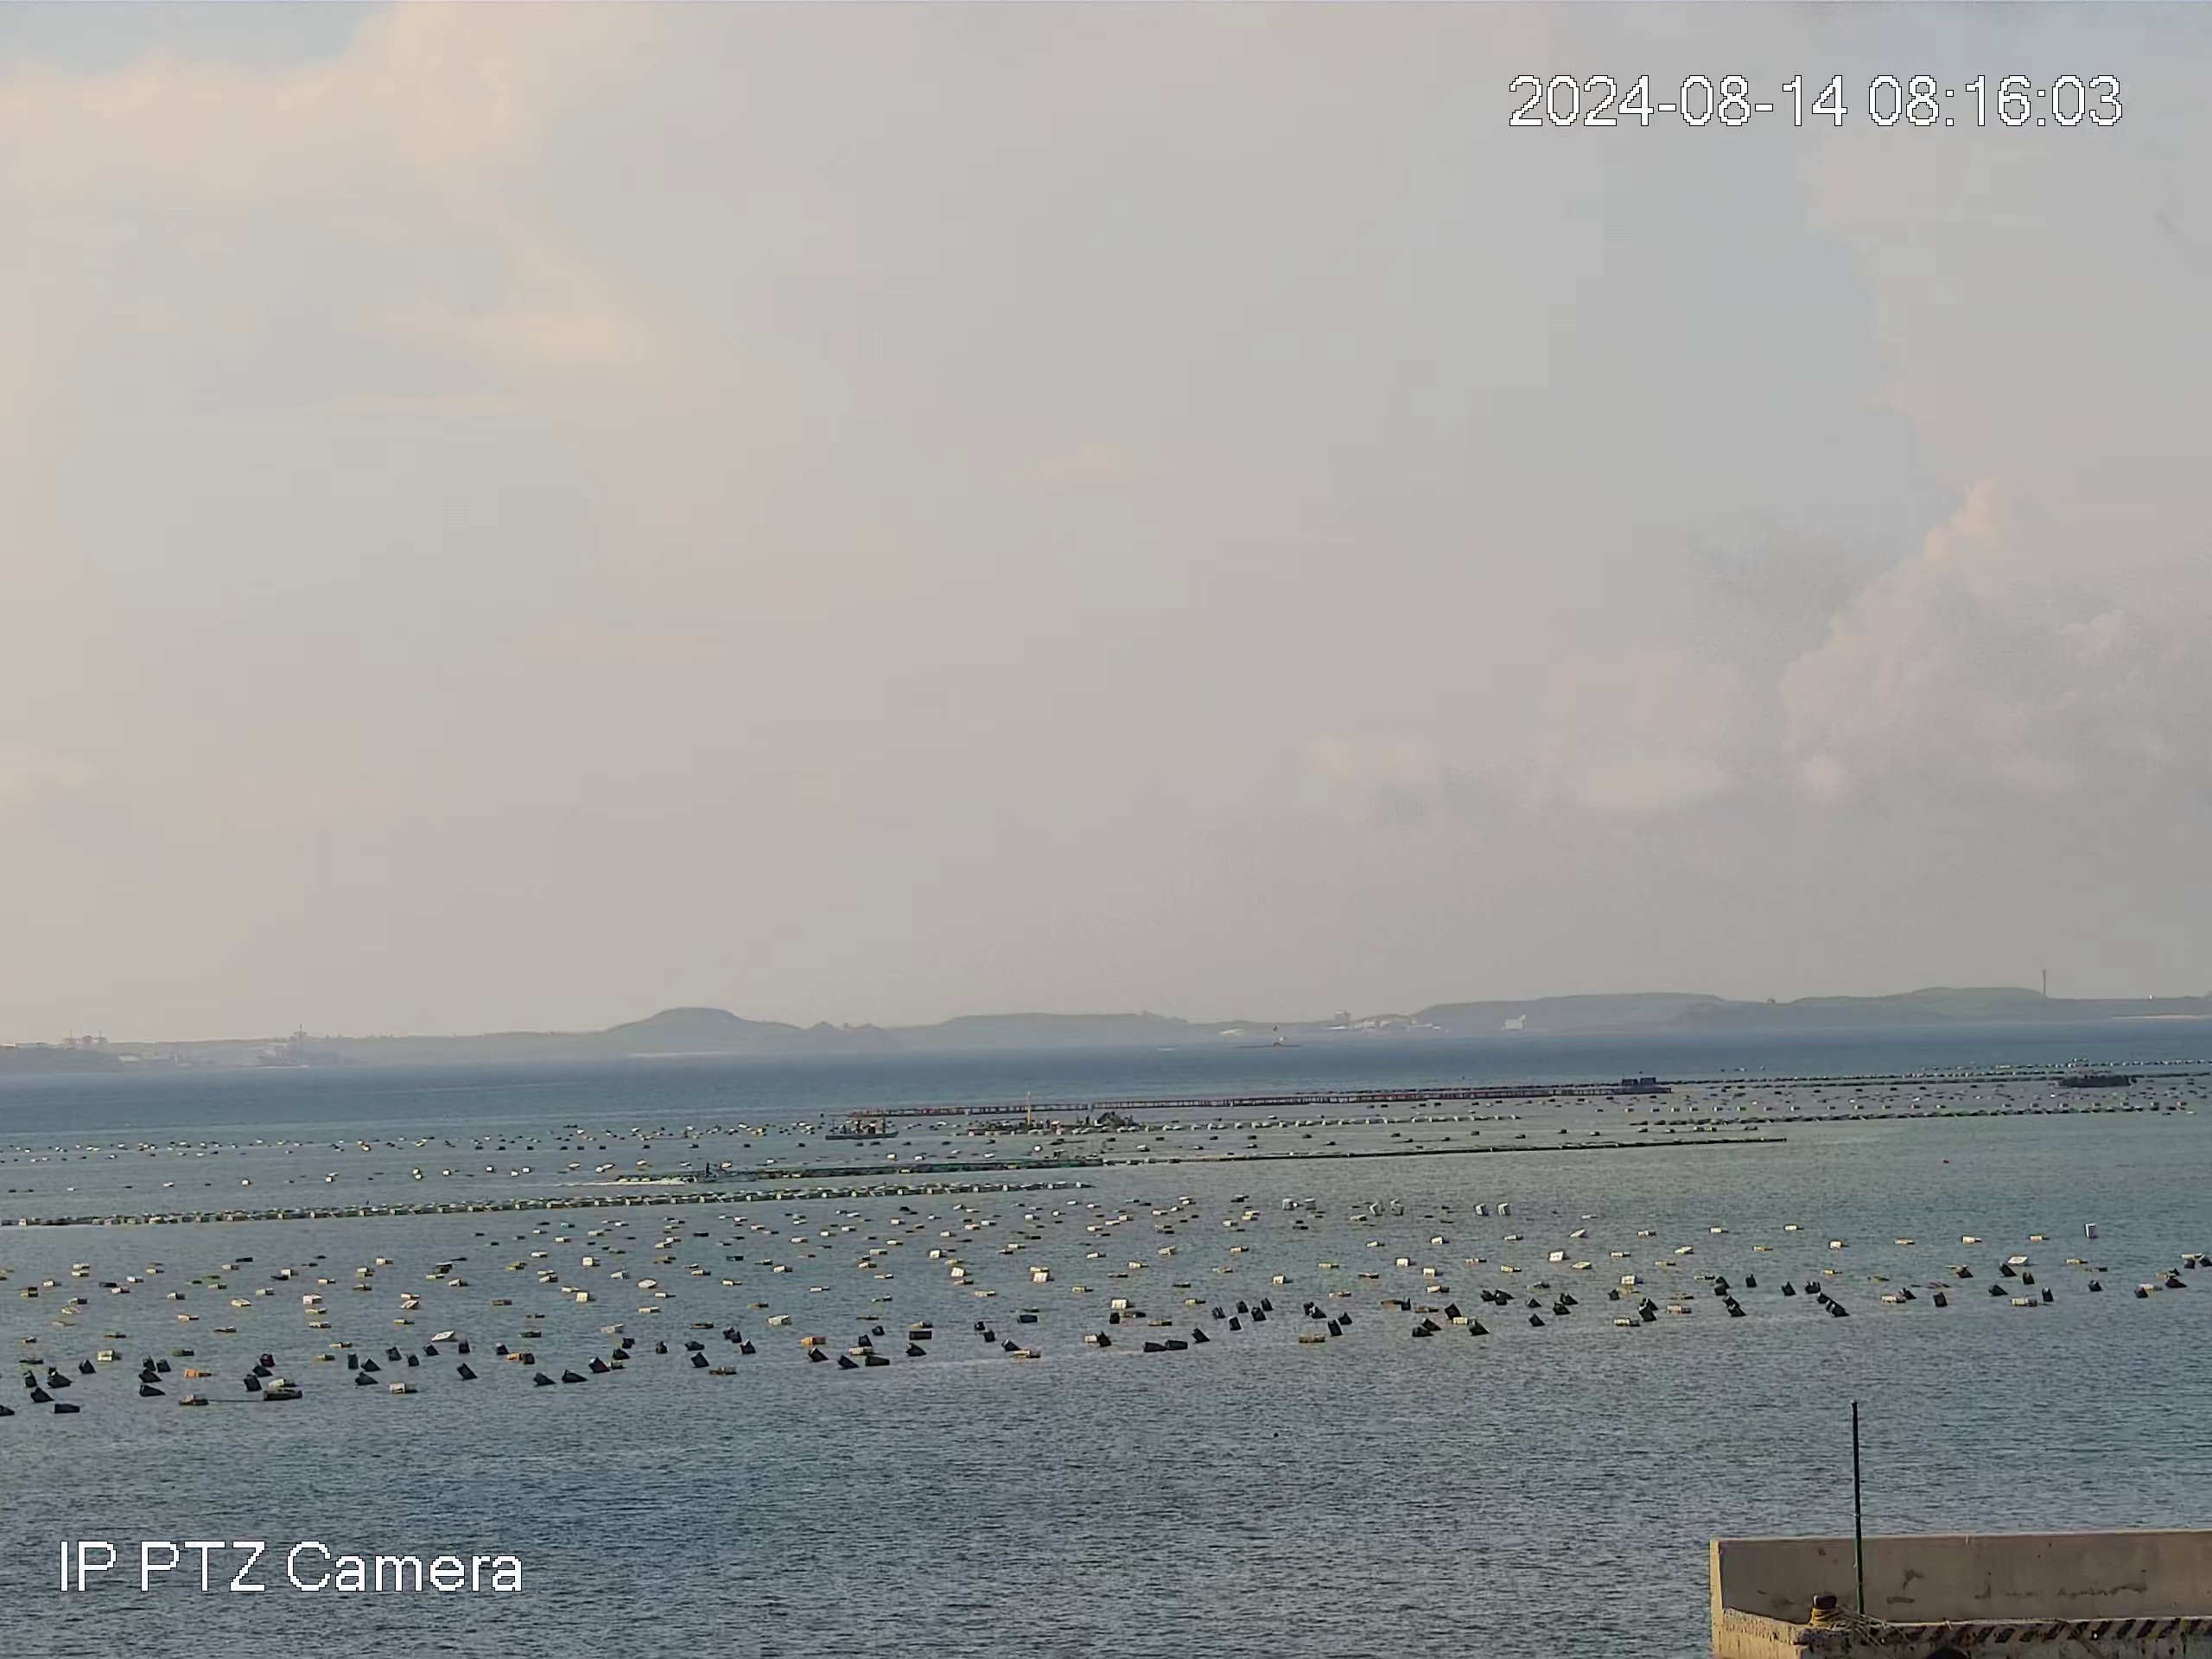boat: (2056, 1065, 2141, 1091), (824, 1110, 899, 1139)
